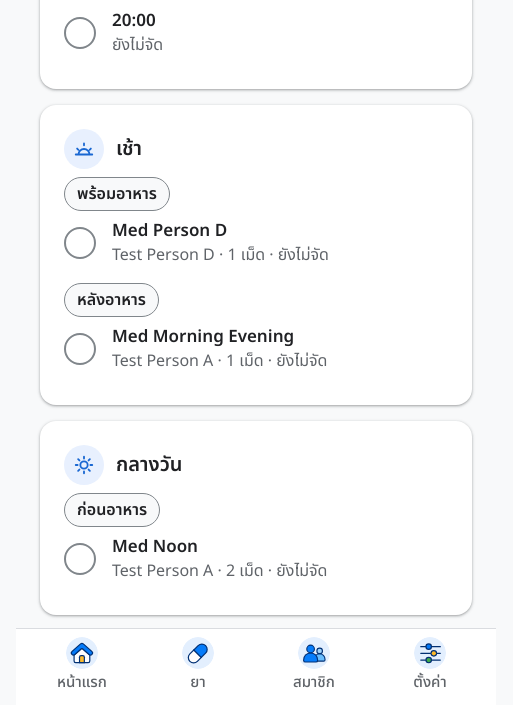
Test: today screen › a save that fails is not shown as ticked
(page scrolled)
Click the checkbox labelled "Med Morning Evening Test Person A · 1 เม็ด · ยังไม่จัด": x=256, y=349 [64, 317, 448, 381]
(page scrolled)
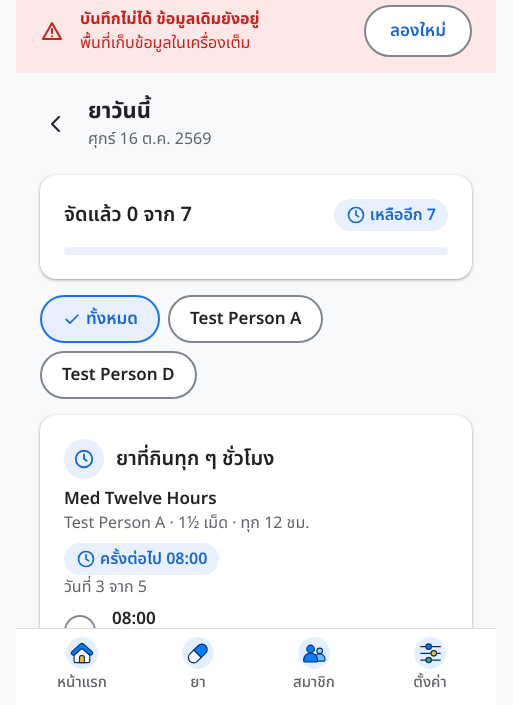
Expected: the text "จัดแล้ว 0 จาก 7" is shown, [64, 201, 192, 229]
Result: the message shows "บันทึกไม่ได้ ข้อมูลเดิมยังอยู่" at [80, 7, 260, 31]
